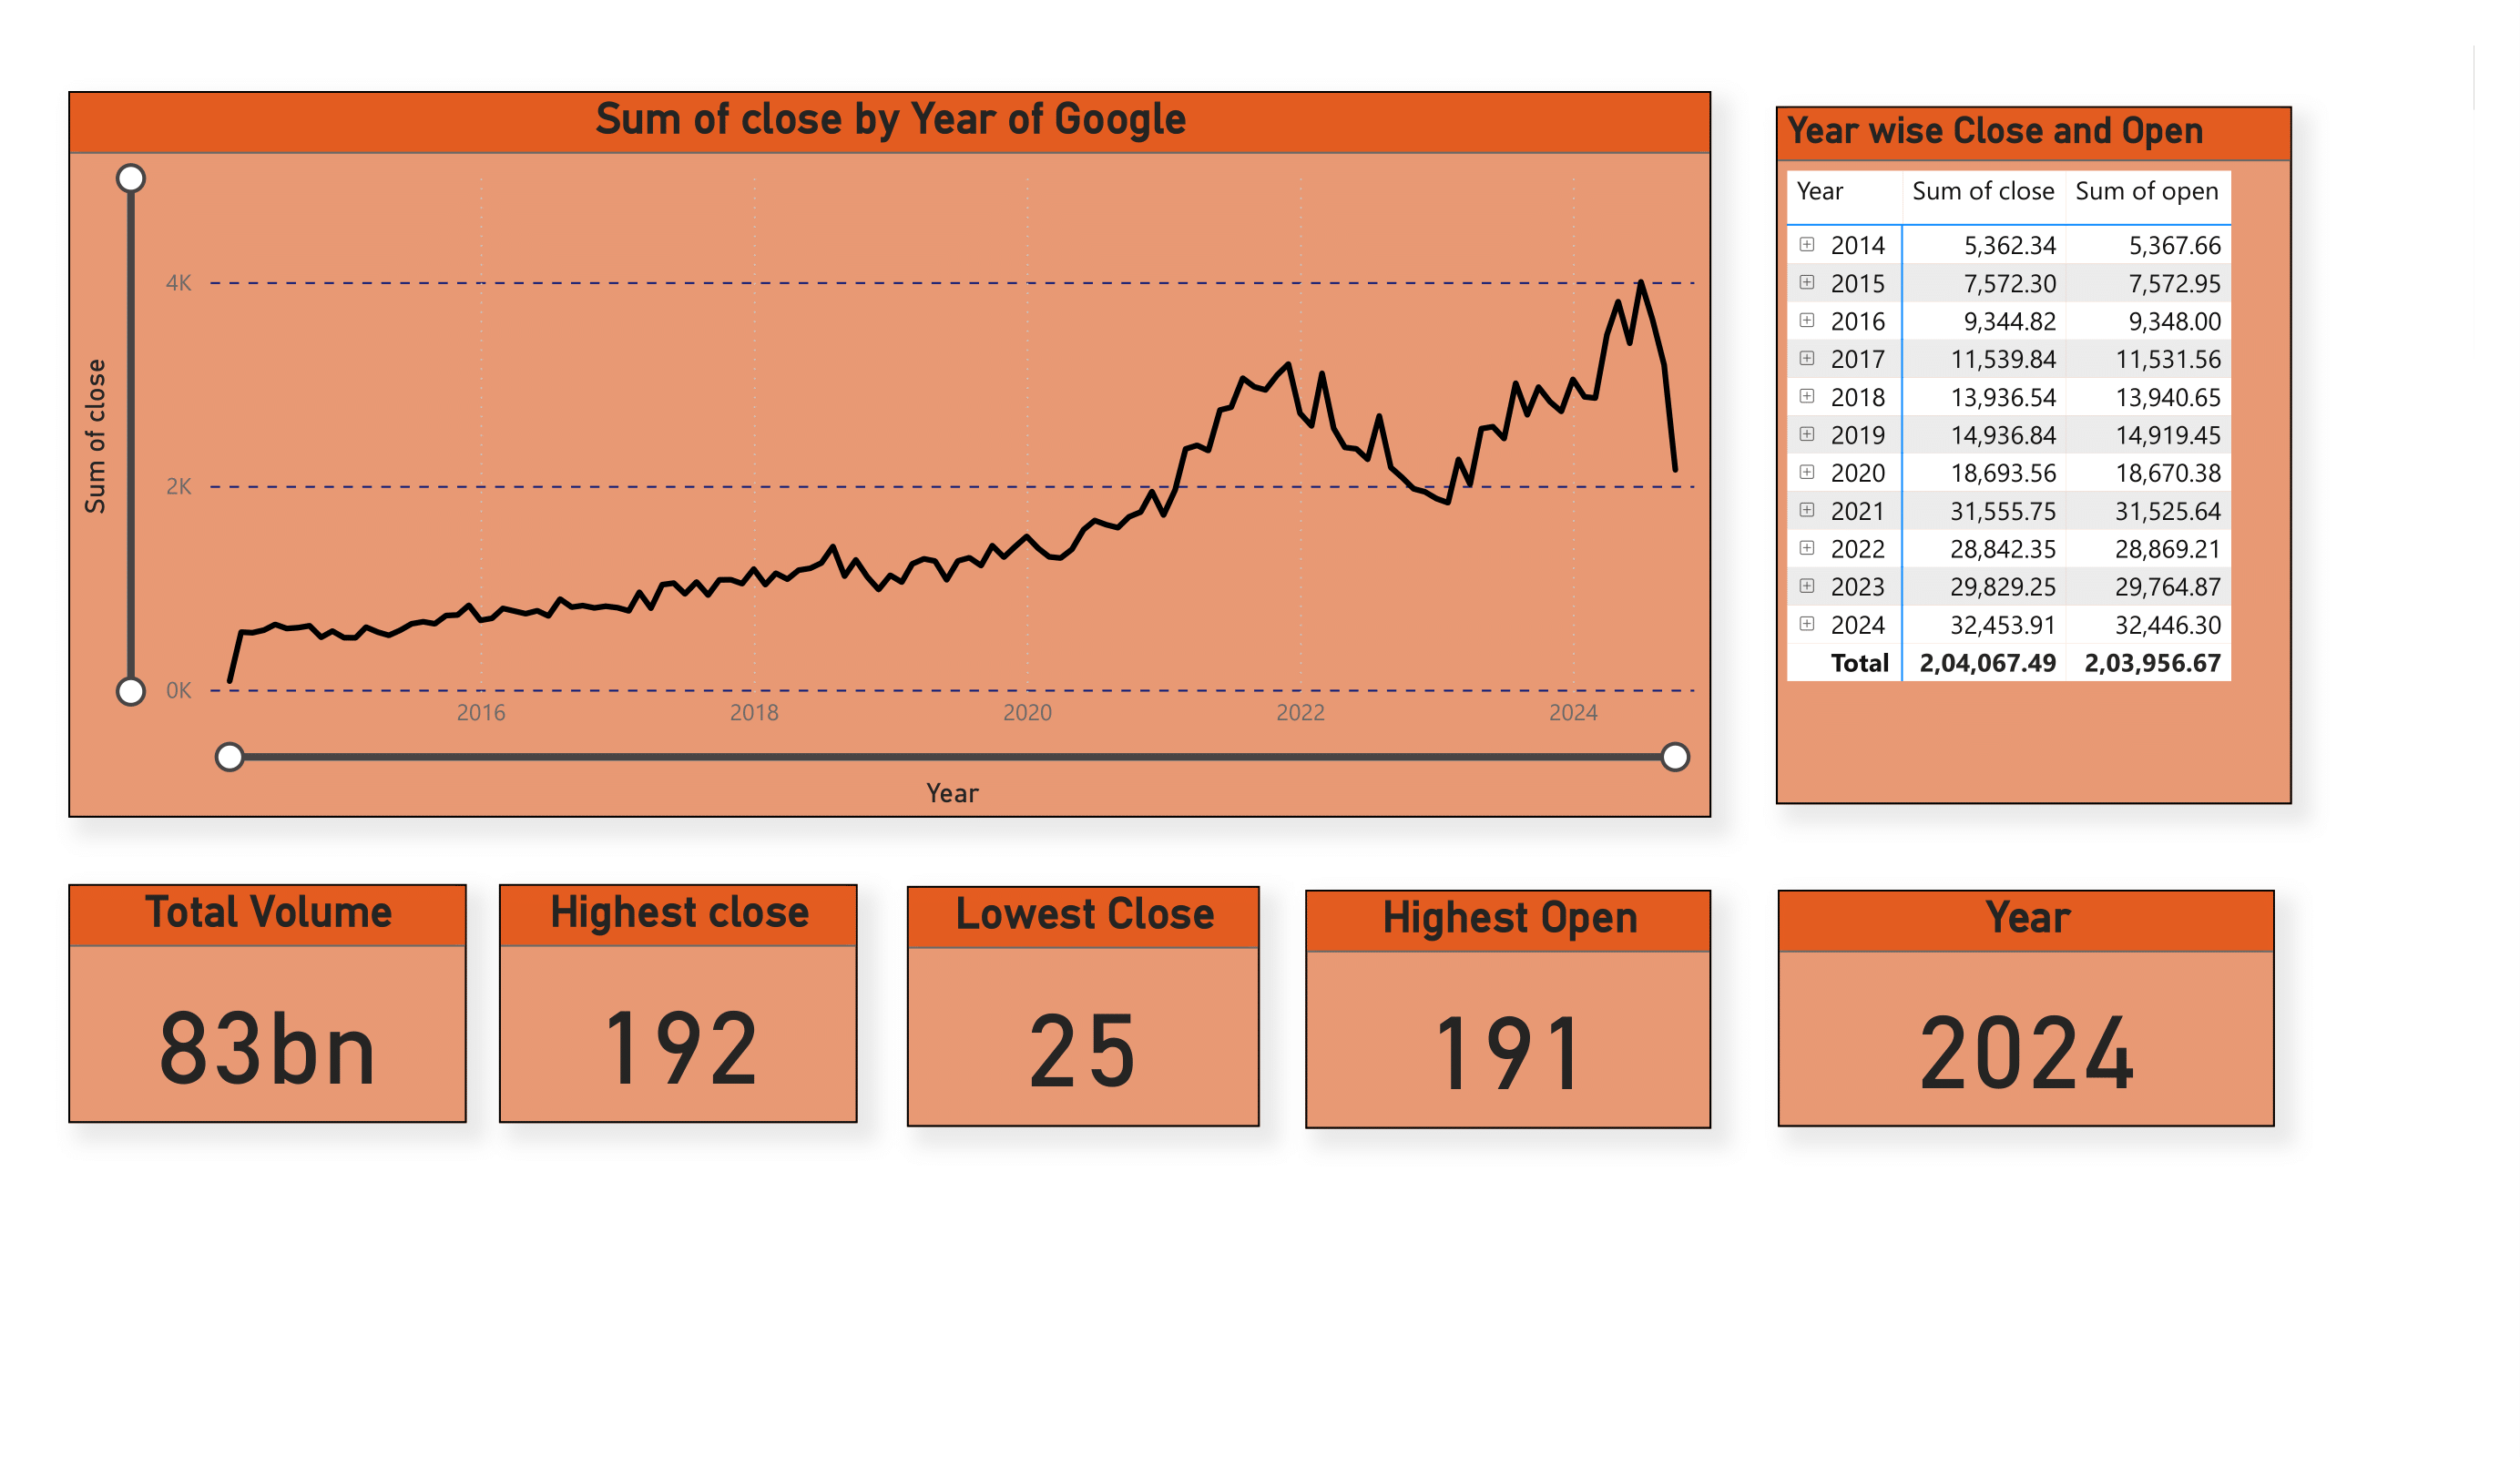

What the dashboard file says about the page in this screenshot:
{"tool":"powerbi","page":{"name":"Google","canvas":[1280,720],"ordinal":2},"visuals":[{"type":"lineChart","title":"Sum of close by Year of Google","fields":{"Category":["Preprocessed_GOOG_Dataset.date.Variation.Date Hierarchy.Year","Preprocessed_GOOG_Dataset.date.Variation.Date Hierarchy.Month"],"Y":["Sum(Preprocessed_GOOG_Dataset.close)"]},"box":[12.2,24.4,865.4,382.4],"z":0},{"type":"pivotTable","title":"Year wise Close and Open","fields":{"Rows":["Preprocessed_GOOG_Dataset.date.Variation.Date Hierarchy.Year","Preprocessed_GOOG_Dataset.date.Variation.Date Hierarchy.Month","Preprocessed_GOOG_Dataset.date.Variation.Date Hierarchy.Day"],"Values":["Sum(Preprocessed_GOOG_Dataset.close)","Sum(Preprocessed_GOOG_Dataset.open)"]},"box":[912,32,272,368],"z":1000},{"type":"card","title":"Highest close","fields":{"Values":["Preprocessed_GOOG_Dataset.Measure 3"]},"box":[239.2,441.8,188.9,126.5],"z":2000},{"type":"card","title":"Highest Open","fields":{"Values":["Preprocessed_GOOG_Dataset.Measure 5"]},"box":[664.3,444.9,213.3,126.5],"z":3000},{"type":"card","title":"Lowest Close ","fields":{"Values":["Preprocessed_GOOG_Dataset.Measure 4"]},"box":[454,443.4,185.9,126.5],"z":4000},{"type":"card","title":"Total Volume","fields":{"Values":["Preprocessed_GOOG_Dataset.Measure 6"]},"box":[12.2,441.8,210.3,126.5],"z":5000},{"type":"card","title":"Year","fields":{"Values":["Max(Preprocessed_GOOG_Dataset.date.Variation.Date Hierarchy.Year)"]},"box":[912.6,444.9,262.1,124.9],"z":6000}]}

Visuals, with their boxes on the page's 1280x720 design canvas (x1, y1, x2, y2). These are canvas units, not pixel positions in the 2520x1457 screenshot, which may show the page scaled, cropped or inside an application window:
"Sum of close by Year of Google" lineChart: 12/24/878/407
"Year wise Close and Open" pivotTable: 912/32/1184/400
"Highest close" card: 239/442/428/568
"Highest Open" card: 664/445/878/571
"Lowest Close " card: 454/443/640/570
"Total Volume" card: 12/442/222/568
"Year" card: 913/445/1175/570
